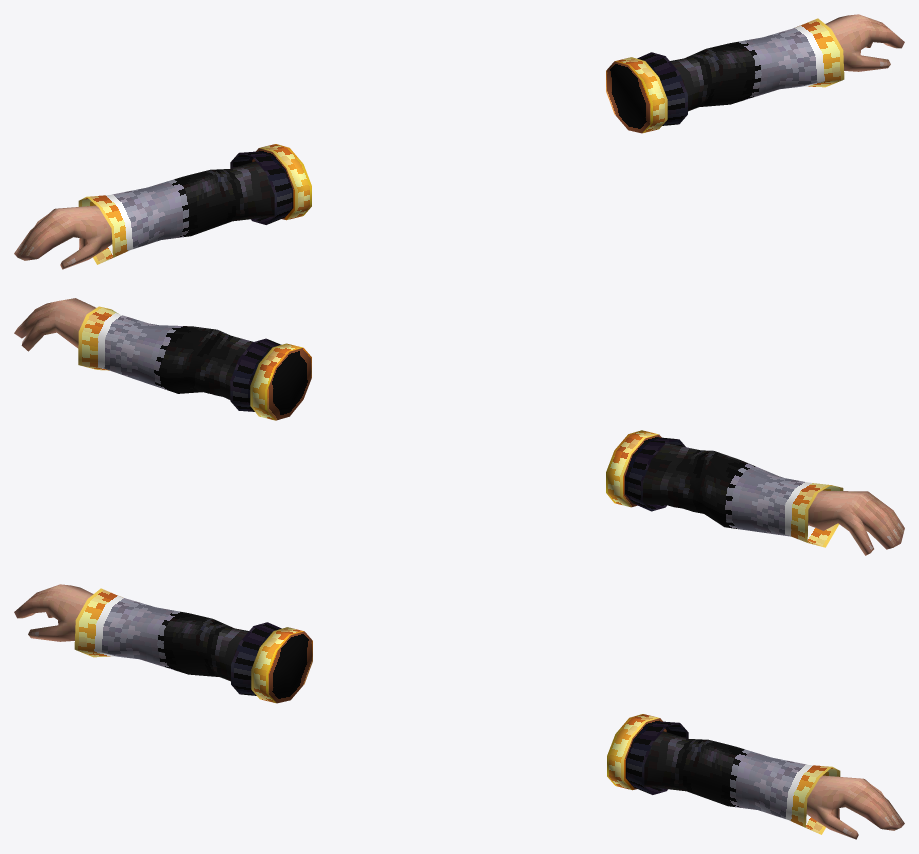
File: m_gauntlet253.obj
3 renders of one model, top to bottom at view 1: azimuth 30°, elevation 25°; view 2: azimuth 150°, elevation 25°; view 3: azimuth 330°, elevation 25°, orthographic.
Parts seen in each view (by area): view 1: mesh00; view 2: mesh00; view 3: mesh00.
Boxes of the visible parts, x1,y1,x2,y2 form: mesh00: (14,14,904,269); mesh00: (14,298,904,555); mesh00: (14,584,904,839).
Size of the model in its own units: 178 by 13.02 by 15.59.
Materials: 1 (1 with a texture image).
